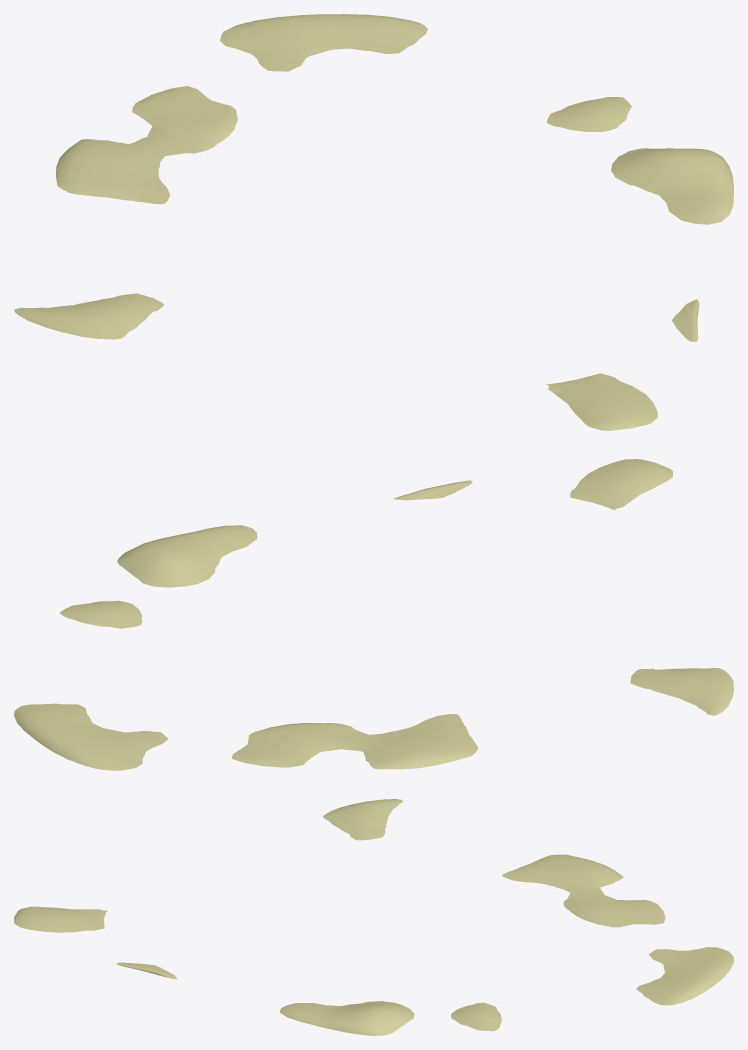
File: landscape-smoothed.gltf
The picture shows the model from 3 angles, top to bottom: view 1: azimuth 30°, elevation 25°; view 2: azimuth 150°, elevation 25°; view 3: azimuth 270°, elevation 25°; orthographic projection. The views are drawn at different scales.
Size of the model in its own units: 34.08 by 0.6141 by 43.81.
